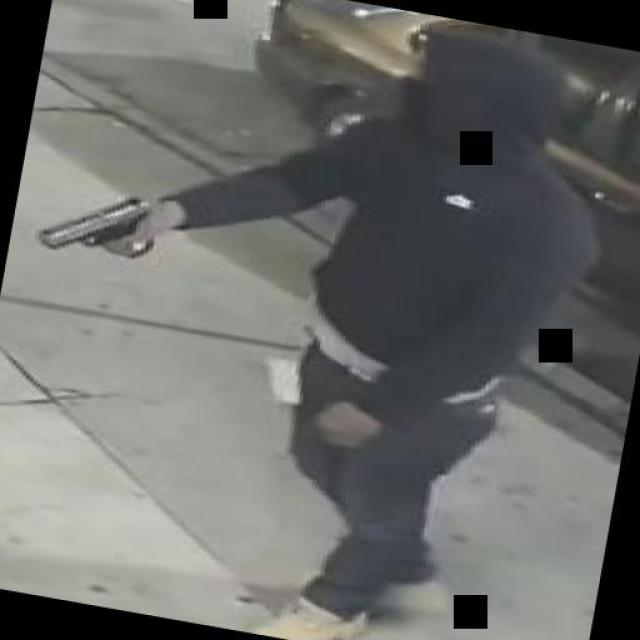gun: (29, 176, 169, 264)
